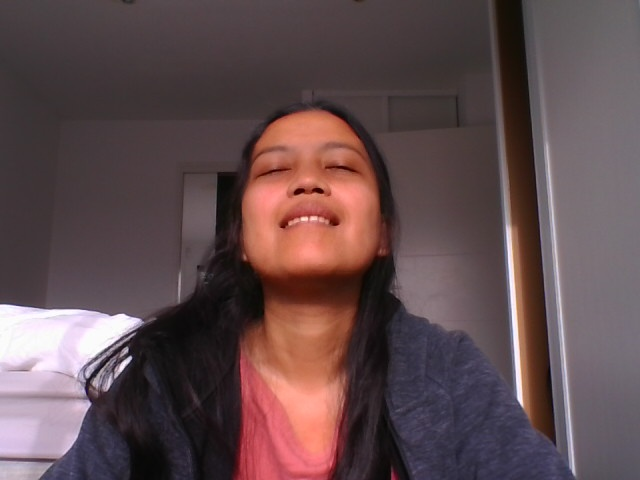face: (242, 103, 388, 277)
